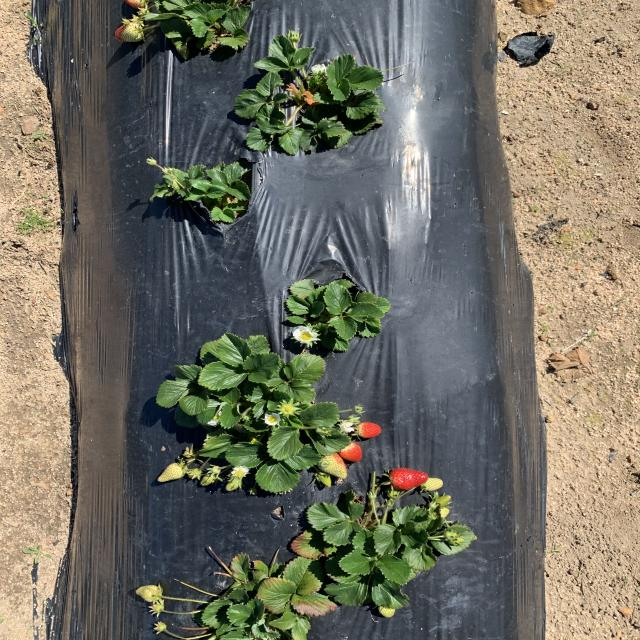unripe: (391, 466, 429, 490), (339, 442, 363, 463), (357, 423, 382, 439)
